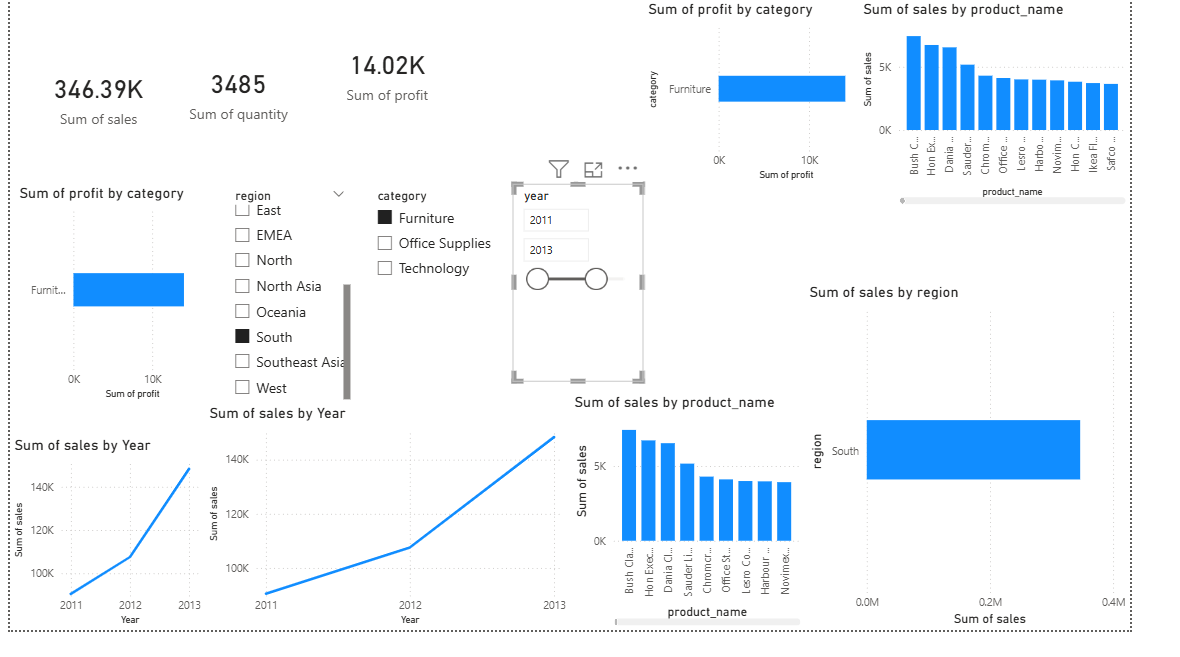

Layout of this report page (visuals, bound fields, positions):
{"tool":"powerbi","page":{"name":"Page 1","canvas":[1280,720],"ordinal":0},"visuals":[{"type":"card","fields":{"Values":["Sum(Orders.sales)"]},"box":[0,0,202.9,221.4],"z":0},{"type":"card","fields":{"Values":["Sum(Orders.profit)"]},"box":[347.1,0,168.6,167.1],"z":1000},{"type":"card","fields":{"Values":["Sum(Orders.quantity)"]},"box":[175.7,0,171.4,210],"z":2000},{"type":"barChart","fields":{"Y":["Sum(Orders.profit)"],"Category":["Orders.category"]},"box":[724.3,0,255.7,211.4],"z":4000},{"type":"lineChart","fields":{"Category":["Orders.order_date.Variation.Date Hierarchy.Year","Orders.order_date.Variation.Date Hierarchy.Quarter","Orders.order_date.Variation.Date Hierarchy.Month","Orders.order_date.Variation.Date Hierarchy.Day"],"Y":["Sum(Orders.sales)"]},"box":[222.9,461.4,417.1,258.6],"z":5000},{"type":"columnChart","fields":{"Category":["Orders.product_name"],"Y":["Sum(Orders.sales)"]},"box":[970,0,310,238.6],"z":6000},{"type":"clusteredBarChart","fields":{"Y":["Sum(Orders.sales)"],"Category":["Orders.region"]},"box":[908.6,322.9,371.4,397.1],"z":7000},{"type":"clusteredBarChart","fields":{"Y":["Sum(Orders.profit)"],"Category":["Orders.category"]},"box":[5.7,210,217.1,251.4],"z":8000},{"type":"lineChart","fields":{"Category":["Orders.order_date.Variation.Date Hierarchy.Year","Orders.order_date.Variation.Date Hierarchy.Quarter","Orders.order_date.Variation.Date Hierarchy.Month","Orders.order_date.Variation.Date Hierarchy.Day"],"Y":["Sum(Orders.sales)"]},"box":[0,498.6,222.9,221.4],"z":8001},{"type":"columnChart","fields":{"Y":["Sum(Orders.sales)"],"Category":["Orders.product_name"]},"box":[640,448.6,268.6,271.4],"z":8002},{"type":"slicer","fields":{"Values":["Orders.region"]},"box":[244.3,210,150,251.4],"z":8003},{"type":"slicer","fields":{"Values":["Orders.category"]},"box":[407.1,210,150,251.4],"z":8004},{"type":"slicer","fields":{"Values":["Orders.year"]},"box":[574.3,210,150,227.1],"z":8005}]}

Visuals, with their boxes in screenshot pixels (x1, y1, x2, y2), scaled from the page's 1280x720 canvas onto the 1180x657 screenshot:
card - Sum(Orders.sales): 0,0,187,202
card - Sum(Orders.profit): 320,0,475,152
card - Sum(Orders.quantity): 162,0,320,192
barChart - Sum(Orders.profit) x Orders.category: 668,0,903,193
lineChart - Orders.order_date.Variation.Date Hierarchy.Year x Orders.order_date.Variation.Date Hierarchy.Quarter: 205,421,590,656
columnChart - Orders.product_name x Sum(Orders.sales): 894,0,1179,218
clusteredBarChart - Sum(Orders.sales) x Orders.region: 838,295,1179,656
clusteredBarChart - Sum(Orders.profit) x Orders.category: 5,192,205,421
lineChart - Orders.order_date.Variation.Date Hierarchy.Year x Orders.order_date.Variation.Date Hierarchy.Quarter: 0,455,205,656
columnChart - Sum(Orders.sales) x Orders.product_name: 590,409,838,656
slicer - Orders.region: 225,192,363,421
slicer - Orders.category: 375,192,514,421
slicer - Orders.year: 529,192,668,399
